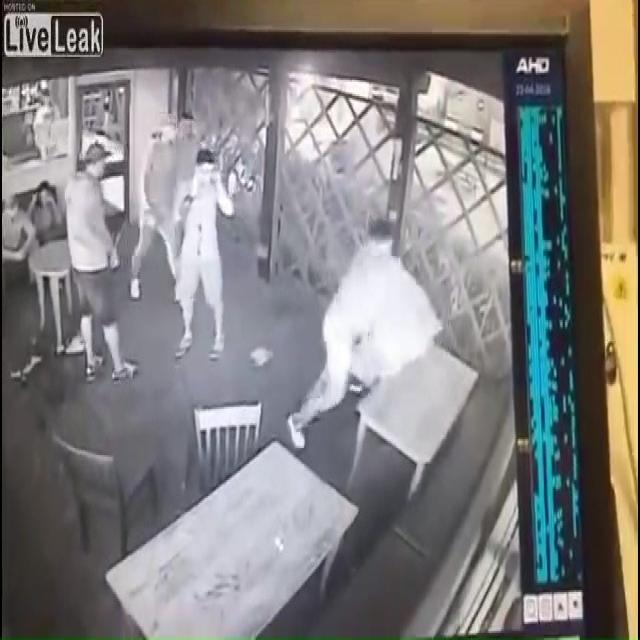fight: (321, 220, 444, 387)
